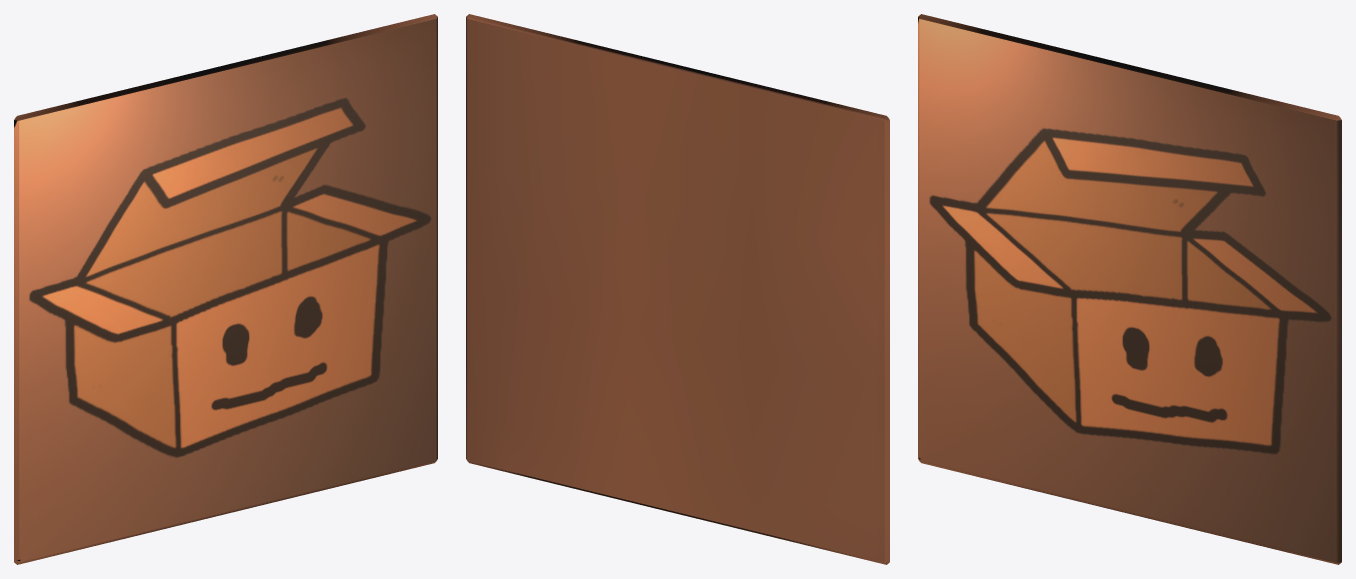
Rendered from DropBot.glb.
3 views of the same model, side by side, from view 1: azimuth 30°, elevation 25°; view 2: azimuth 150°, elevation 25°; view 3: azimuth 330°, elevation 25° (orthographic).
Visible parts, largest first — view 1: [DUPLICATE]Vinyle.023; view 2: [DUPLICATE]Vinyle.023; view 3: [DUPLICATE]Vinyle.023.
Part boxes in pixels (left/top/right/bottom): [DUPLICATE]Vinyle.023: left=14, top=14, right=437, bottom=564; [DUPLICATE]Vinyle.023: left=466, top=14, right=889, bottom=564; [DUPLICATE]Vinyle.023: left=918, top=14, right=1341, bottom=564.
Bounding box in the file's own units: 0.323 × 0.327 × 0.005.
Materials: 1 (1 with a texture image).
